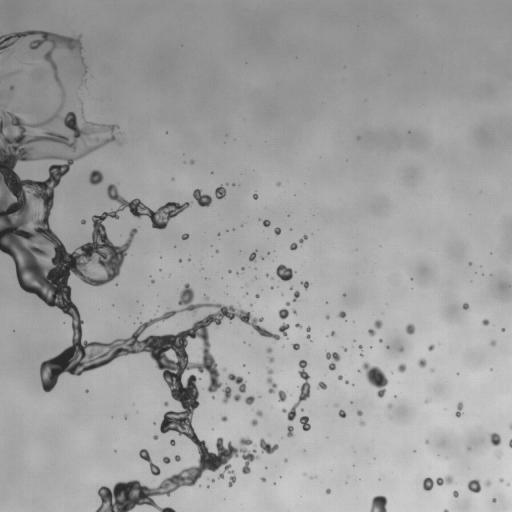droplet: (193, 189, 212, 206), (275, 264, 293, 281), (222, 386, 240, 403), (369, 495, 387, 511), (259, 439, 278, 454), (326, 352, 340, 370), (0, 85, 14, 100), (89, 170, 103, 185), (467, 479, 481, 493), (278, 323, 289, 339), (214, 185, 226, 199), (299, 416, 310, 430), (490, 432, 501, 446), (278, 308, 289, 319), (405, 324, 415, 334), (417, 358, 426, 367), (245, 395, 254, 404), (249, 250, 256, 261), (398, 363, 406, 372), (317, 381, 326, 389), (293, 290, 299, 301), (287, 426, 293, 437), (299, 235, 307, 243), (301, 281, 309, 289), (338, 409, 345, 418), (262, 220, 270, 227), (274, 227, 281, 235), (290, 242, 297, 250), (162, 456, 170, 463), (338, 311, 345, 318), (292, 343, 299, 350), (181, 233, 189, 239), (462, 303, 469, 309), (482, 319, 489, 325), (256, 410, 262, 417), (251, 419, 257, 426), (428, 344, 434, 350), (266, 347, 272, 353), (174, 455, 180, 461), (485, 480, 491, 486), (253, 192, 258, 199), (295, 323, 302, 328), (453, 490, 458, 497), (268, 357, 274, 362), (221, 416, 227, 421), (170, 439, 175, 445), (330, 331, 335, 336), (490, 340, 495, 345), (357, 410, 362, 415), (261, 477, 266, 482), (497, 451, 501, 457), (326, 488, 330, 494), (81, 219, 85, 224), (292, 309, 296, 314), (398, 347, 403, 351), (338, 375, 342, 380), (164, 401, 168, 406), (153, 435, 158, 439), (190, 160, 194, 164), (425, 399, 429, 403), (360, 421, 364, 425), (499, 478, 503, 482), (492, 498, 496, 502), (359, 344, 362, 349), (255, 294, 259, 297), (286, 302, 289, 306), (326, 315, 329, 319), (430, 368, 433, 372), (509, 424, 511, 429), (443, 509, 448, 511), (83, 71, 86, 74), (277, 182, 280, 185), (501, 328, 504, 331), (345, 380, 348, 383), (388, 404, 391, 407), (425, 440, 428, 443), (241, 267, 244, 269), (228, 270, 231, 272), (379, 339, 382, 341), (343, 348, 346, 350), (358, 369, 360, 372), (284, 459, 287, 461), (211, 479, 214, 481), (215, 250, 217, 252), (266, 274, 268, 276), (290, 287, 292, 289), (343, 294, 345, 296), (386, 346, 388, 348), (223, 368, 225, 370), (468, 448, 470, 450)
ligament: (0, 35, 281, 511), (282, 360, 310, 421), (362, 362, 388, 397), (266, 368, 286, 401), (139, 449, 160, 475), (422, 475, 453, 490), (228, 373, 246, 393), (368, 320, 382, 336), (455, 402, 462, 417), (306, 326, 311, 340), (6, 72, 13, 76), (0, 75, 4, 82), (509, 439, 511, 447)
